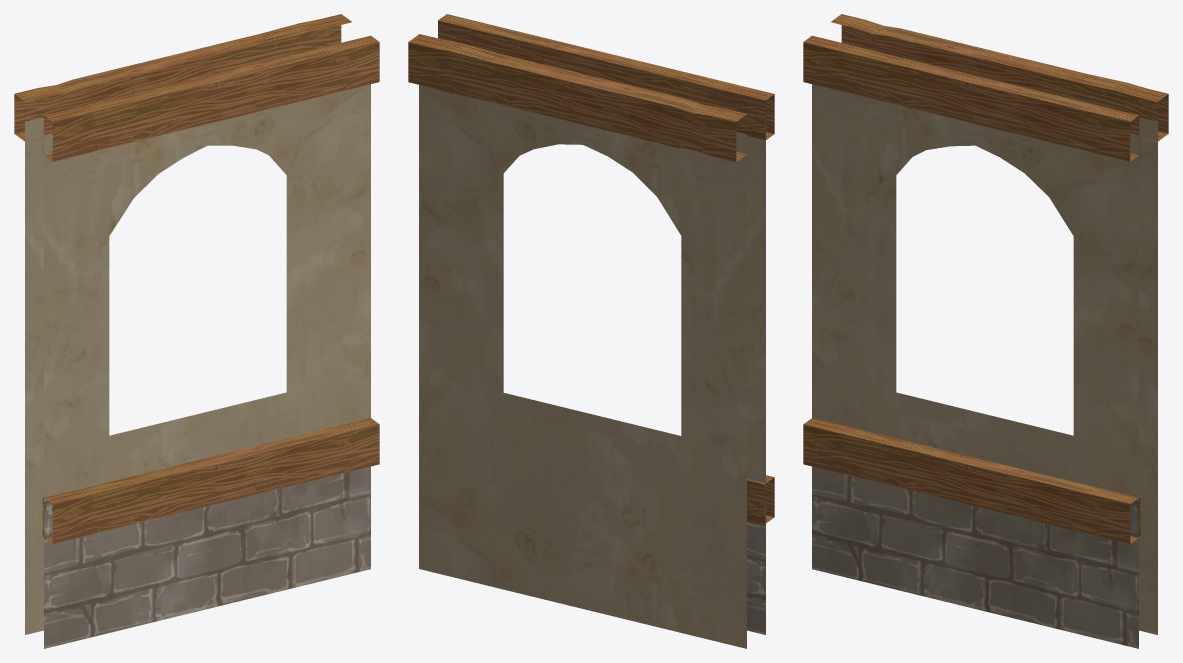
The model's file is Wall_Plaster_Window_Wide_Round.glb.
The picture shows the model from 3 angles, left to right: view 1: azimuth 30°, elevation 25°; view 2: azimuth 150°, elevation 25°; view 3: azimuth 330°, elevation 25°; orthographic projection.
Parts seen in each view (by area): view 1: Wall_Plaster_Window_Wide_Round; view 2: Wall_Plaster_Window_Wide_Round; view 3: Wall_Plaster_Window_Wide_Round.
Part boxes in pixels (x1,y1,x2,y2): Wall_Plaster_Window_Wide_Round: (14, 14, 379, 648); Wall_Plaster_Window_Wide_Round: (408, 14, 774, 648); Wall_Plaster_Window_Wide_Round: (803, 14, 1168, 648).
Bounding box in the file's own units: 2 × 3.12 × 0.4065.
Materials: 3 (3 with a texture image).
